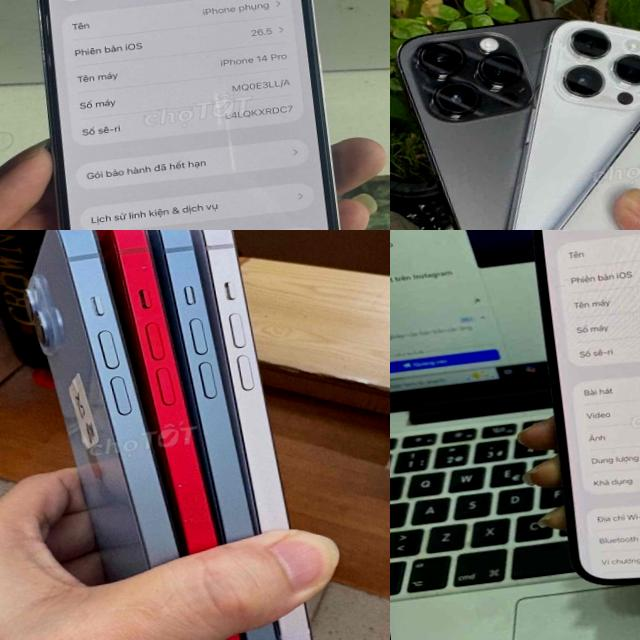gen_14: (0, 230, 223, 640), (13, 0, 373, 230), (390, 0, 640, 230), (505, 230, 640, 611)
